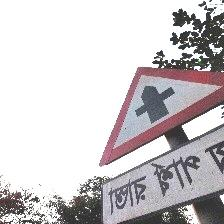Crossroad: (98, 65, 224, 224)
